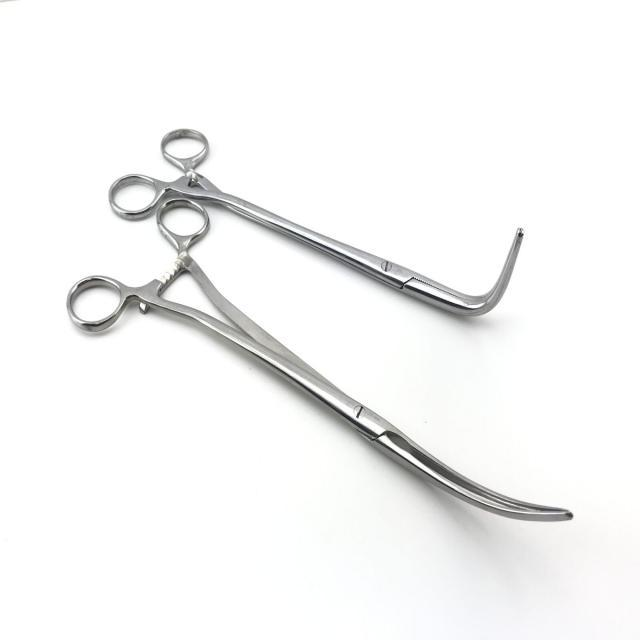Rectangle Cholecystectomy Forceps: (105, 77, 531, 328)
